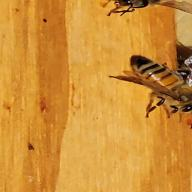Bee: (114, 48, 192, 115)
